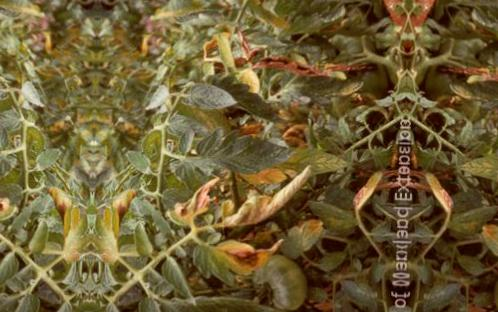Tomato Early blight leaf: (216, 161, 310, 234), (194, 134, 291, 176), (190, 236, 281, 278), (93, 182, 138, 262), (170, 169, 219, 228)
Tomato leaf: (165, 293, 269, 312), (181, 85, 238, 110)
